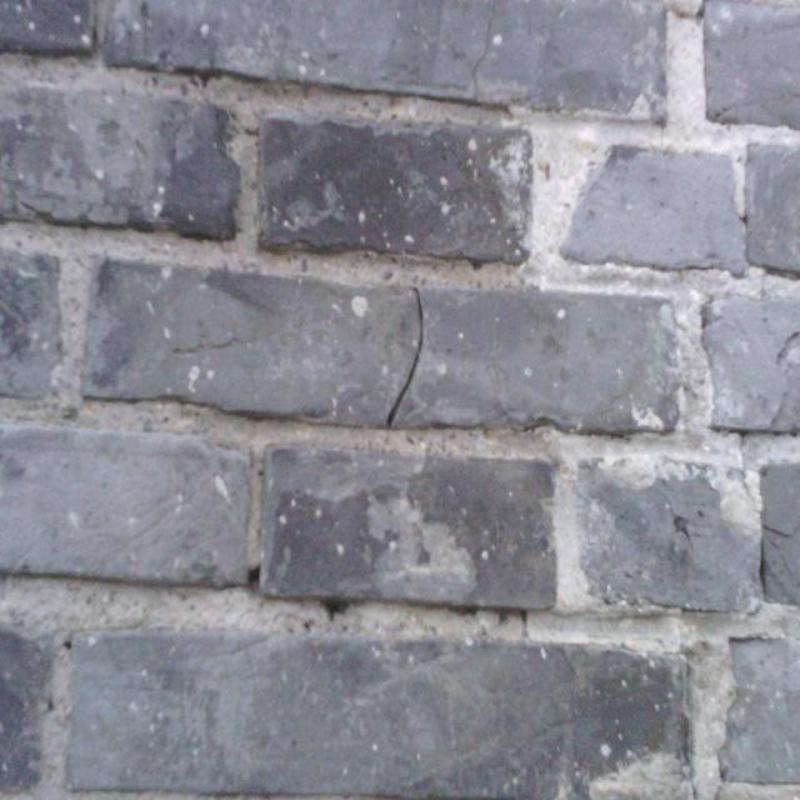pothole: (386, 290, 423, 427), (472, 1, 497, 99), (762, 525, 799, 539)
